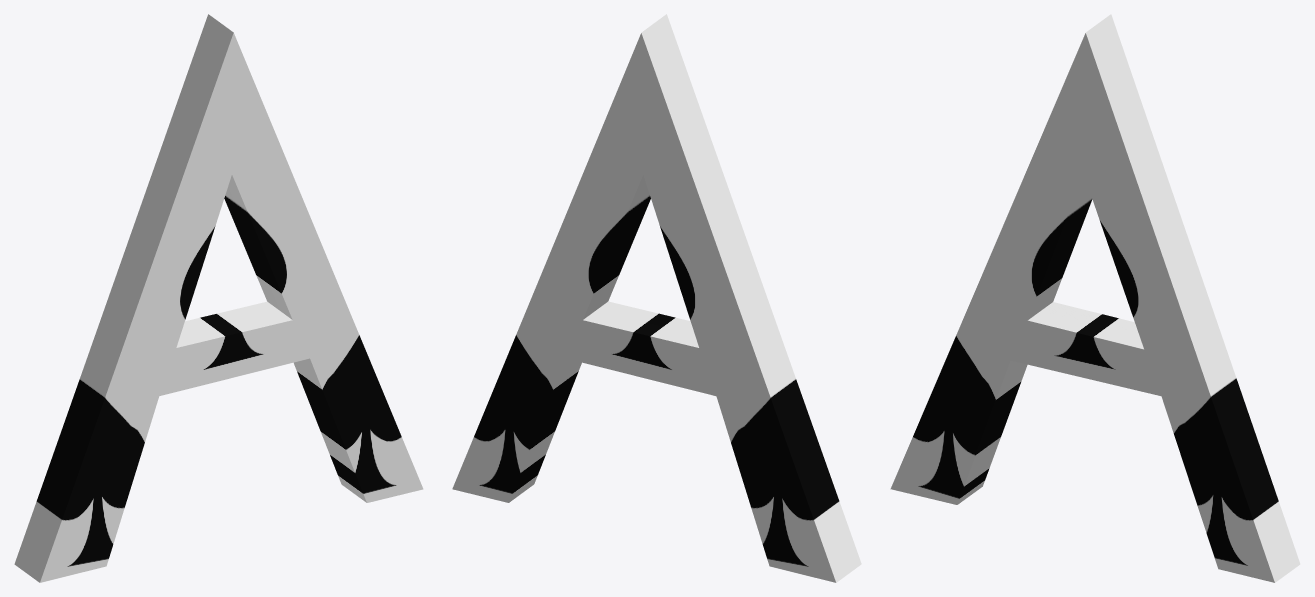
File: As_Pique.fbx
3 views of the same model, side by side, from view 1: azimuth 30°, elevation 25°; view 2: azimuth 150°, elevation 25°; view 3: azimuth 330°, elevation 25° (orthographic).
Visible parts, largest first — view 1: As de pique; view 2: As de pique; view 3: As de pique.
Boxes of the visible parts, x1,y1,x2,y2 form: As de pique: (14,14,423,582); As de pique: (452,14,861,582); As de pique: (890,14,1300,582).
Bounding box in the file's own units: 10.02 × 12.54 × 1.17.
